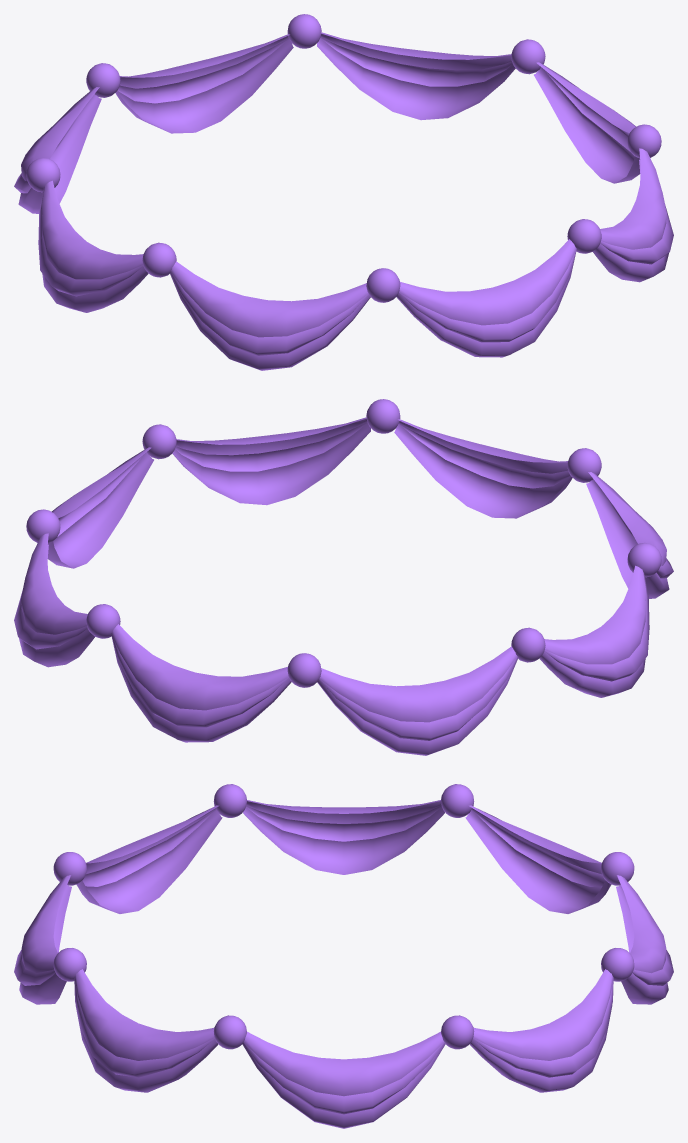
Rendered from Cake_Med_itemsSide_Drapes-A.FBX.
3 views of the same model, one above another, from view 1: azimuth 30°, elevation 25°; view 2: azimuth 150°, elevation 25°; view 3: azimuth 270°, elevation 25° (orthographic). The views are drawn at different scales.
Visible parts, largest first — view 1: Cake_Med_itemsSide_Drapes-A; view 2: Cake_Med_itemsSide_Drapes-A; view 3: Cake_Med_itemsSide_Drapes-A.
Boxes of the visible parts, bbox=[...] form: Cake_Med_itemsSide_Drapes-A: bbox=[14, 14, 673, 370]; Cake_Med_itemsSide_Drapes-A: bbox=[14, 399, 673, 755]; Cake_Med_itemsSide_Drapes-A: bbox=[14, 784, 673, 1128].
Size of the model in its own units: 8173 by 1322 by 8173.
